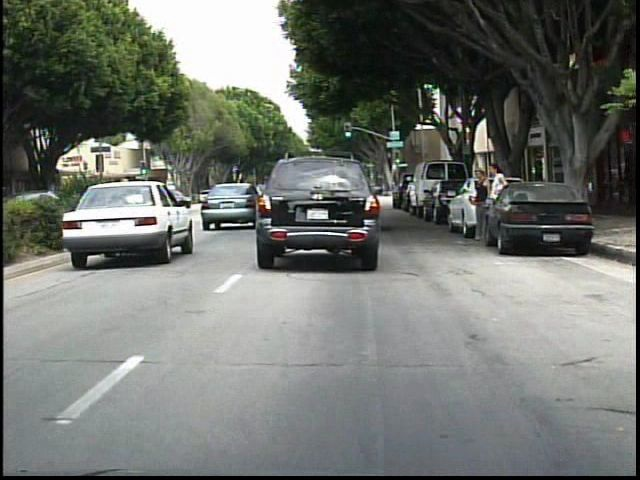person: (486, 160, 511, 242), (469, 170, 491, 249)
